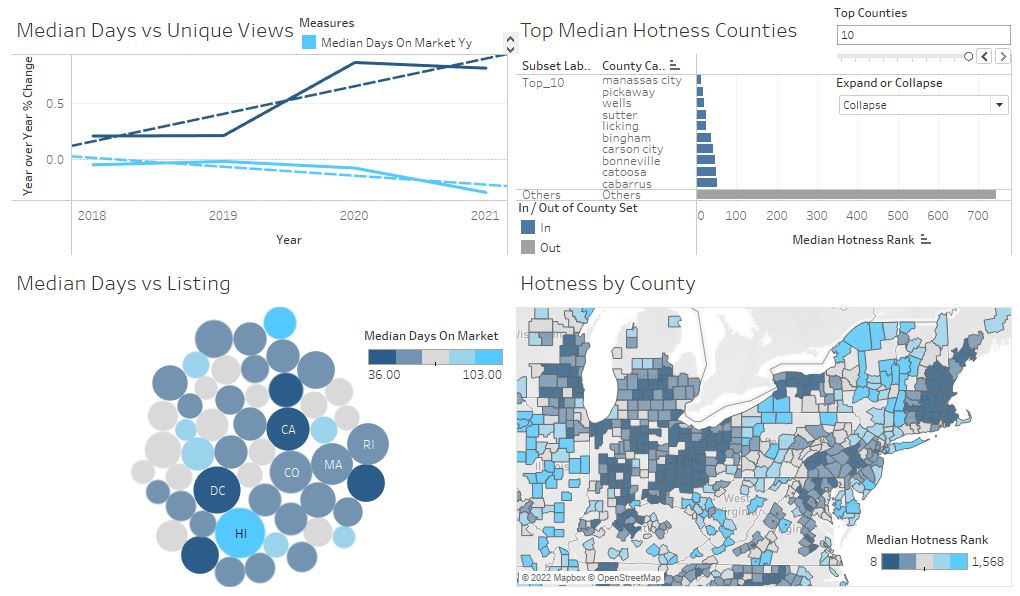

What the dashboard file says about the page in this screenshot:
{"tool":"tableau","page":{"name":"Dashboard","canvas":[1024,600],"ordinal":0},"visuals":[{"type":"parameter","param":"[Parameters].[Parameter 1]","box":[834,5,180,73]},{"type":"worksheet","title":"Median Days vs Unique Views","mark":"Automatic","rows":["ldp_unique_viewers_per_property_yy","median_days_on_market_yy"],"cols":["month_date_yyyymm"],"box":[8,8,504,253.2]},{"type":"worksheet","title":"Top Median Hotness Counties","mark":"Automatic","rows":["County Set","Calculation_801077830163562496","Calculation_801077830170284033"],"cols":["hotness_rank"],"box":[512,8,504,253.2]},{"type":"legend","title":"Median Days vs Unique Views","param":"[federated.1buzdzo0gbtnrd188re4q0nmzxo1].[:Measure Names]","box":[299,14.8,222,40.1]},{"type":"parameter","param":"[Parameters].[Parameter 2]","box":[836,75,176,52]},{"type":"legend","title":"Top Median Hotness Counties","param":"[federated.1buzdzo0gbtnrd188re4q0nmzxo1].[io:County Set:nk]","box":[518,200,157,65]},{"type":"worksheet","title":"Median Days vs Listing","mark":"Circle","box":[8,261.2,504,330.8]},{"type":"worksheet","title":"Hotness by County","mark":"Multipolygon","box":[512,261.2,504,330.8]},{"type":"legend","title":"Median Days vs Listing","param":"[federated.1buzdzo0gbtnrd188re4q0nmzxo1].[med:median_days_on_market:qk]","box":[363.5,327.8,143.4,57]},{"type":"legend","title":"Hotness by County","param":"[federated.1buzdzo0gbtnrd188re4q0nmzxo1].[med:hotness_rank:qk]","box":[866.3,531.8,143.4,57]}]}

Visuals, with their boxes in screenshot pixels (x1, y1, x2, y2), scaled from the page's 1024x600 canvas onto the 1020x596 screenshot:
parameter: {"left": 831, "top": 5, "right": 1010, "bottom": 77}
"Median Days vs Unique Views" worksheet: {"left": 8, "top": 8, "right": 510, "bottom": 259}
"Top Median Hotness Counties" worksheet: {"left": 510, "top": 8, "right": 1012, "bottom": 259}
"Median Days vs Unique Views" legend: {"left": 298, "top": 15, "right": 519, "bottom": 55}
parameter: {"left": 833, "top": 74, "right": 1008, "bottom": 126}
"Top Median Hotness Counties" legend: {"left": 516, "top": 199, "right": 672, "bottom": 263}
"Median Days vs Listing" worksheet (Circle marks): {"left": 8, "top": 259, "right": 510, "bottom": 588}
"Hotness by County" worksheet (Multipolygon marks): {"left": 510, "top": 259, "right": 1012, "bottom": 588}
"Median Days vs Listing" legend: {"left": 362, "top": 326, "right": 505, "bottom": 382}
"Hotness by County" legend: {"left": 863, "top": 528, "right": 1006, "bottom": 585}
